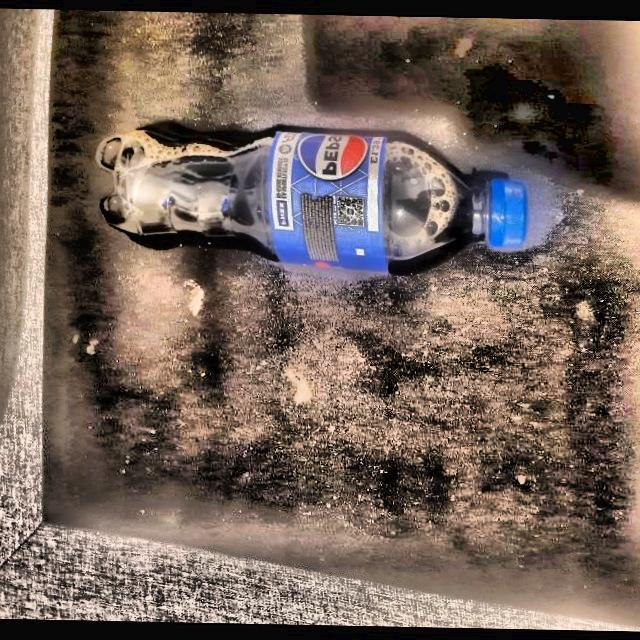pepsi-bottle: (86, 123, 540, 274)
